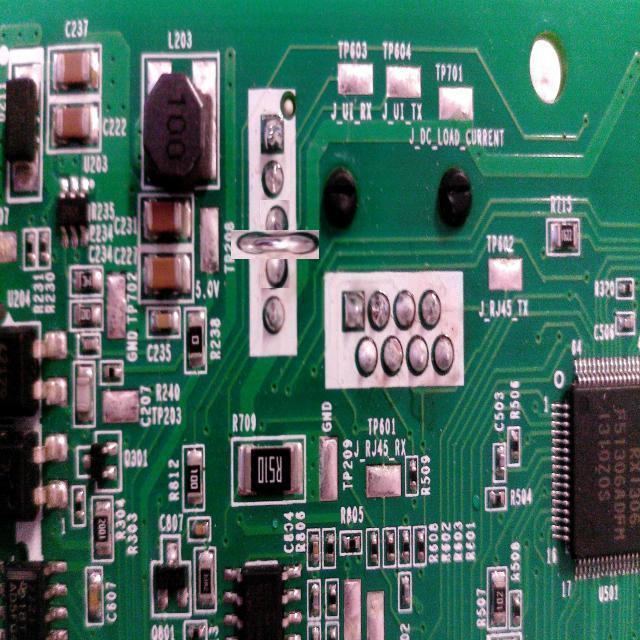Short_circuit: (246, 215, 305, 274)
